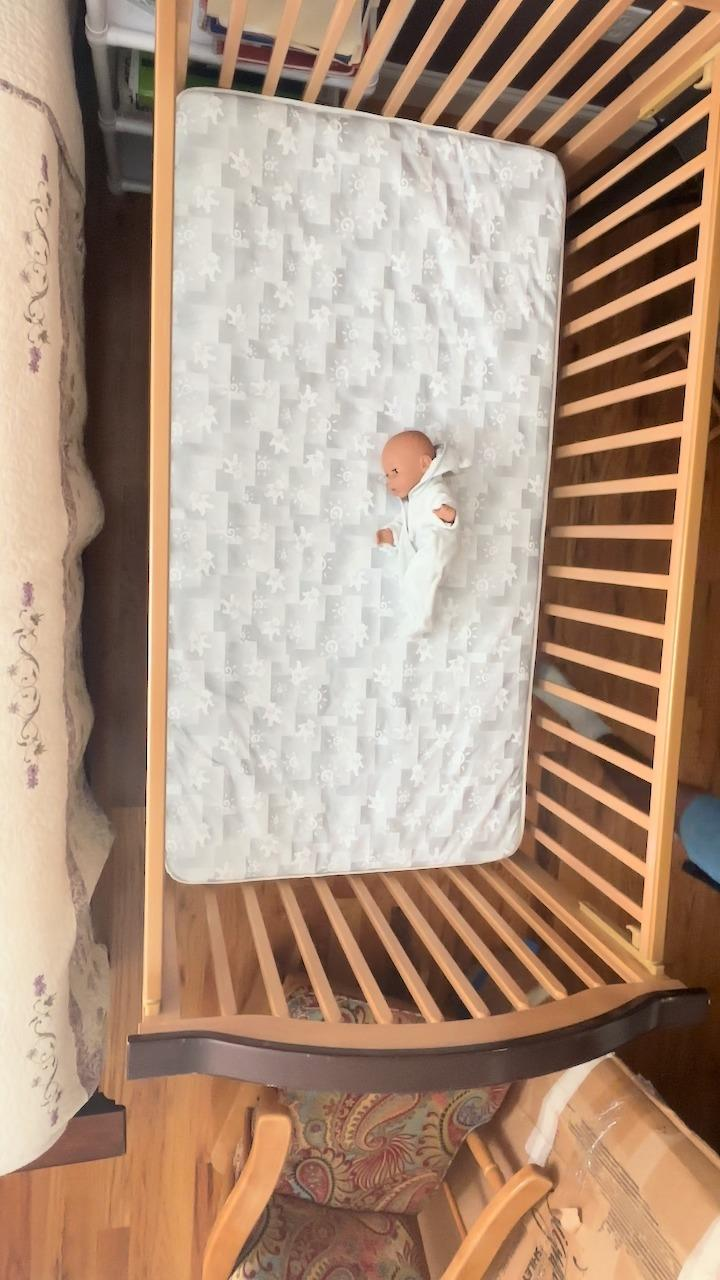baby: (373, 427, 463, 639)
